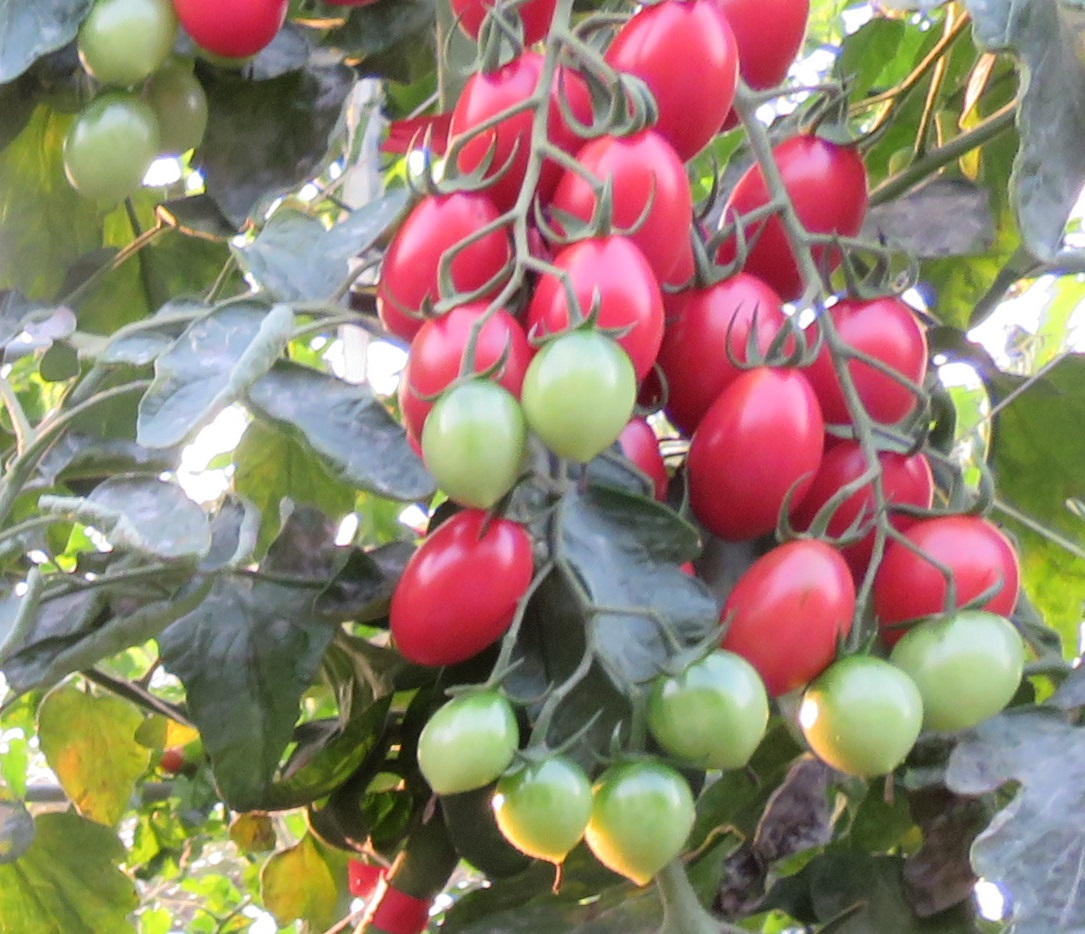green: (635, 641, 776, 781), (521, 327, 651, 467), (890, 604, 1026, 737), (798, 653, 926, 782), (587, 755, 703, 887), (486, 741, 597, 869), (57, 82, 162, 212), (405, 689, 523, 803), (424, 376, 519, 511), (77, 1, 178, 90), (148, 73, 217, 158)
red: (690, 355, 828, 541), (375, 509, 531, 671), (719, 128, 867, 298), (696, 536, 852, 695), (797, 285, 930, 447), (378, 174, 510, 337), (524, 231, 667, 374), (662, 269, 787, 432), (456, 58, 591, 207), (545, 126, 704, 250), (871, 515, 1021, 642), (599, 3, 753, 121), (817, 446, 940, 557), (712, 5, 812, 116), (344, 839, 443, 934), (176, 1, 289, 65)
